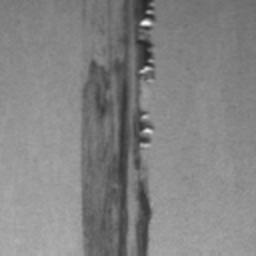Slag inclusion: (79, 0, 157, 256)
